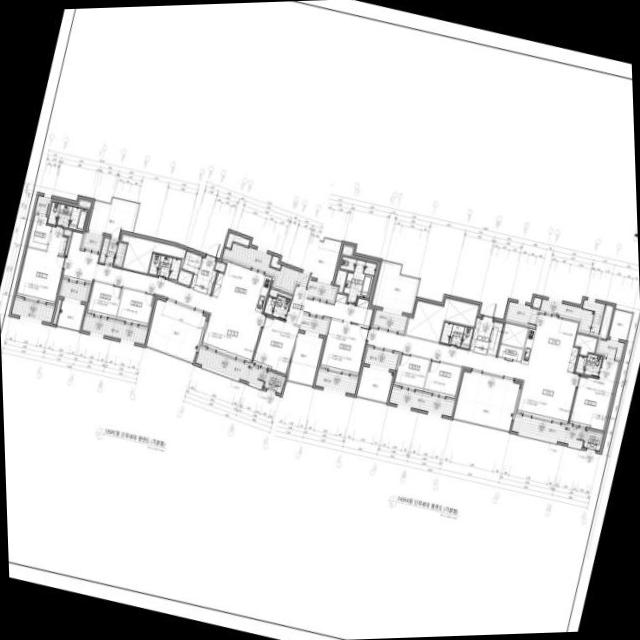background: (0, 0, 640, 640)
space_balconi: (222, 242, 314, 291), (453, 371, 519, 430), (145, 298, 206, 361), (195, 347, 266, 386), (371, 261, 418, 313), (511, 415, 585, 446), (539, 298, 604, 333), (81, 315, 147, 344), (388, 387, 454, 416), (87, 200, 138, 235), (356, 366, 393, 401), (314, 369, 357, 393), (11, 298, 53, 322), (98, 237, 126, 266), (56, 300, 84, 329), (372, 309, 407, 331), (363, 347, 398, 369), (505, 301, 537, 325), (608, 310, 631, 340), (296, 313, 327, 335), (304, 279, 335, 300), (60, 281, 87, 301), (597, 339, 623, 358), (82, 231, 102, 250), (34, 195, 50, 212)
space_bedroom: (16, 226, 67, 303), (569, 358, 618, 430), (252, 315, 298, 373), (320, 319, 368, 374), (423, 360, 461, 397), (116, 288, 153, 325), (86, 281, 121, 318), (394, 353, 429, 390)
space_dressroom: (285, 285, 309, 325), (27, 214, 50, 249)
space_front: (189, 257, 216, 293), (469, 317, 493, 354)
space_kitchen: (520, 313, 578, 372), (211, 259, 271, 312)
space_living_room: (62, 231, 264, 362), (366, 328, 577, 423)
space_other: (405, 298, 478, 341), (121, 234, 185, 273), (302, 293, 372, 325), (500, 322, 527, 347), (487, 321, 502, 355), (574, 333, 596, 355), (599, 304, 613, 338), (181, 251, 201, 273), (497, 344, 522, 360), (225, 232, 249, 248), (335, 269, 346, 292), (177, 269, 192, 285), (268, 288, 291, 298), (52, 299, 60, 324), (63, 229, 71, 254), (269, 255, 280, 268), (341, 245, 352, 256), (214, 261, 225, 272), (531, 297, 541, 308), (78, 199, 90, 208)
space_outdoor_room: (263, 370, 285, 393), (582, 429, 603, 450)
space_toilet: (339, 256, 376, 303), (47, 201, 87, 230), (148, 253, 180, 279), (440, 322, 472, 348), (263, 295, 290, 319), (575, 353, 602, 376)
